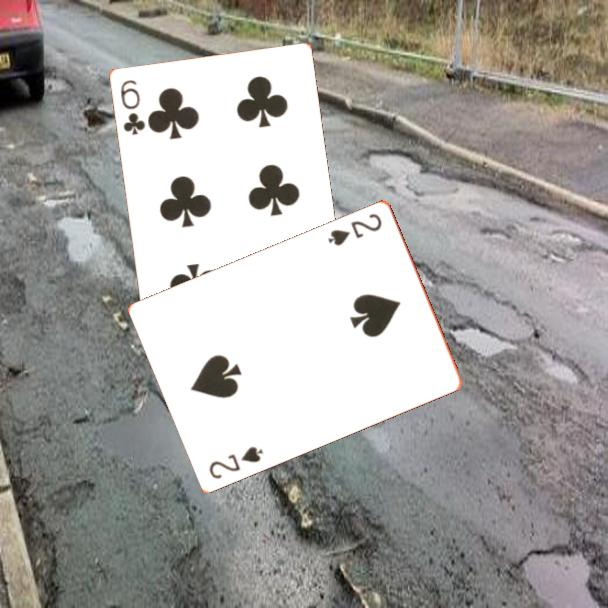c06: (117, 76, 148, 138)
s02: (324, 209, 385, 248), (206, 442, 266, 481)
